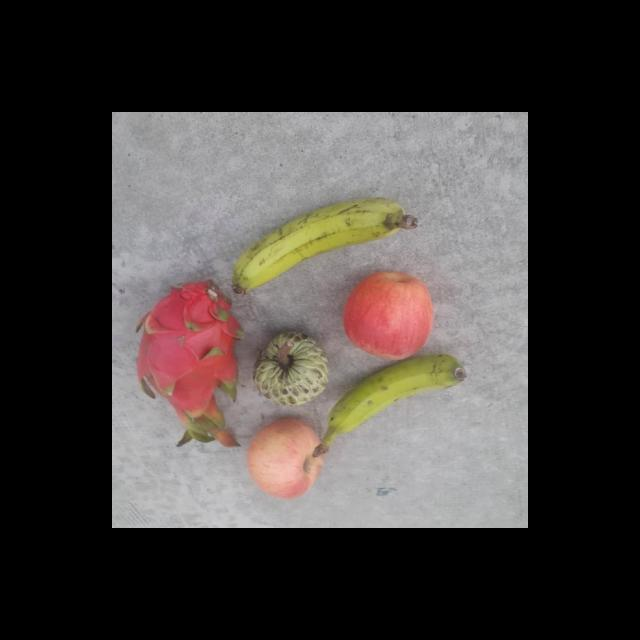Sakya fruit: (251, 330, 329, 408)
apple: (341, 268, 435, 362), (246, 416, 326, 498)
banana: (230, 198, 420, 296), (308, 354, 466, 458)
pitaya: (130, 280, 247, 448)
